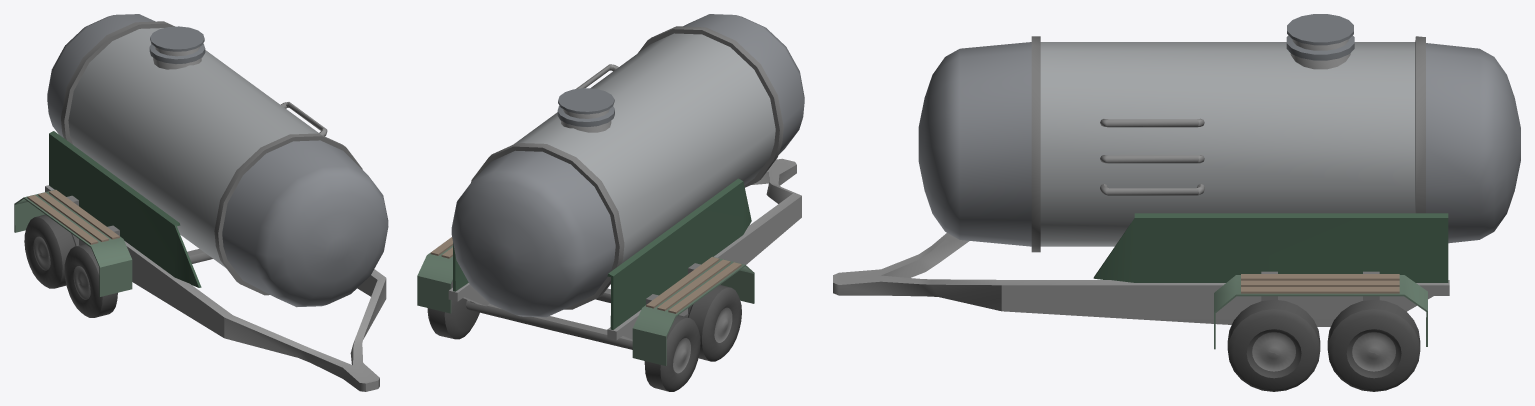
The model's file is TtankerB.gltf.
3 views of the same model, side by side, from view 1: azimuth 30°, elevation 25°; view 2: azimuth 150°, elevation 25°; view 3: azimuth 270°, elevation 25° (orthographic). The views are drawn at different scales.
Parts seen in each view (by area): view 1: body, wheel_12, wheel_9, wheel_11, wheel_8; view 2: body, wheel_9, wheel_12, wheel_3, wheel_8, wheel_11, wheel_14; view 3: body, wheel_5, wheel_15, wheel_14, wheel_4, wheel_7, wheel_17, wheel_6, wheel_16.
Part boxes in pixels (<box>): body: <box>14,14,388,391</box>; wheel_12: <box>24,217,62,288</box>; wheel_9: <box>64,246,102,317</box>; wheel_11: <box>35,214,74,288</box>; wheel_8: <box>75,244,117,317</box>; body: <box>417,14,804,366</box>; wheel_9: <box>702,287,741,361</box>; wheel_12: <box>660,318,700,391</box>; wheel_3: <box>444,281,479,339</box>; wheel_8: <box>689,284,730,361</box>; wheel_11: <box>645,315,688,391</box>; wheel_14: <box>429,308,453,338</box>; body: <box>833,14,1520,363</box>; wheel_5: <box>1228,309,1320,391</box>; wheel_15: <box>1328,309,1420,391</box>; wheel_14: <box>1327,299,1420,350</box>; wheel_4: <box>1227,299,1320,350</box>; wheel_7: <box>1252,332,1295,371</box>; wheel_17: <box>1352,332,1395,371</box>; wheel_6: <box>1246,329,1301,378</box>; wheel_16: <box>1346,329,1401,378</box>.
Size of the model in its own units: 3.96 by 3.73 by 7.86.
Materials: 1 (1 with a texture image).
